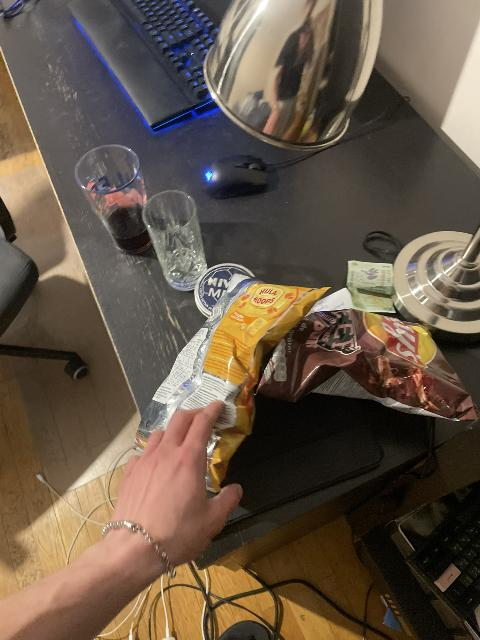Chio Hula Hoops Cheese 70g: (133, 271, 330, 502)
Lays Beef Grilled Ribs 125g: (266, 305, 471, 418)
